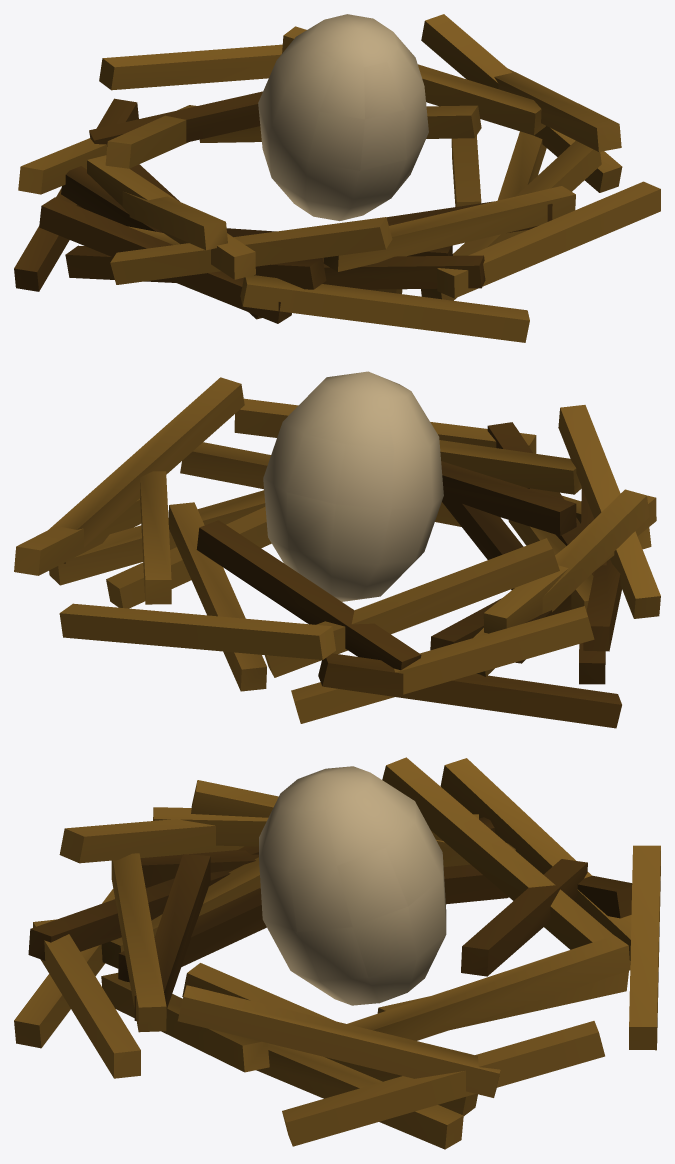
The model's file is fm_egg.glb.
3 views of the same model, one above another, from view 1: azimuth 30°, elevation 25°; view 2: azimuth 150°, elevation 25°; view 3: azimuth 270°, elevation 25° (orthographic). The views are drawn at different scales.
Visible parts, largest first — view 1: fm_egg; view 2: fm_egg; view 3: fm_egg.
Part boxes in pixels (bbox=[...]): fm_egg: bbox=[14, 14, 660, 342]; fm_egg: bbox=[14, 371, 660, 728]; fm_egg: bbox=[14, 757, 660, 1149].
Size of the model in its own units: 0.3028 by 0.122 by 0.2782.
